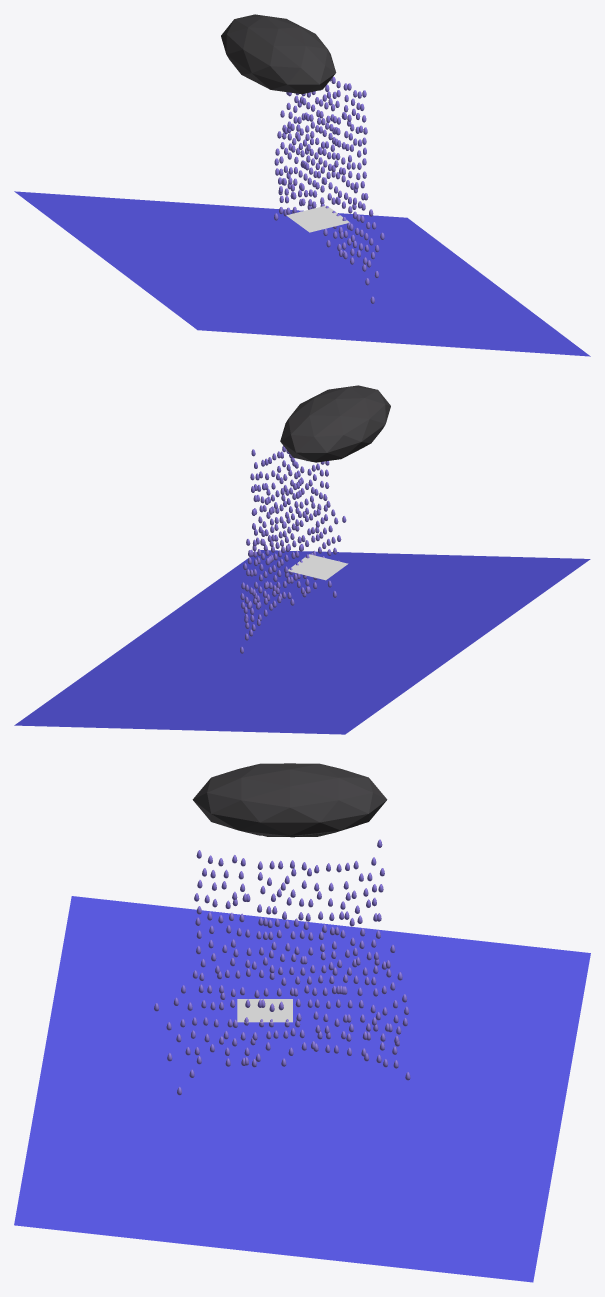
The model's file is acid.glb.
The picture shows the model from 3 angles, top to bottom: view 1: azimuth 30°, elevation 25°; view 2: azimuth 150°, elevation 25°; view 3: azimuth 270°, elevation 25°; orthographic projection. The views are drawn at different scales.
Visible parts, largest first — view 1: Plane.001, Rain, Plane; view 2: Plane.001, Rain, Plane; view 3: Plane.001, Rain, Plane.
Part boxes in pixels (x1,y1,x2,y2): Plane.001: [14, 191, 590, 356]; Rain: [221, 14, 336, 94]; Plane: [286, 205, 349, 232]; Plane.001: [14, 550, 590, 734]; Rain: [280, 385, 390, 461]; Plane: [288, 554, 348, 580]; Plane.001: [14, 896, 590, 1282]; Rain: [192, 763, 387, 835]; Plane: [237, 999, 292, 1022].
Bounding box in the file's own units: 19.82 × 15 × 20.68.
